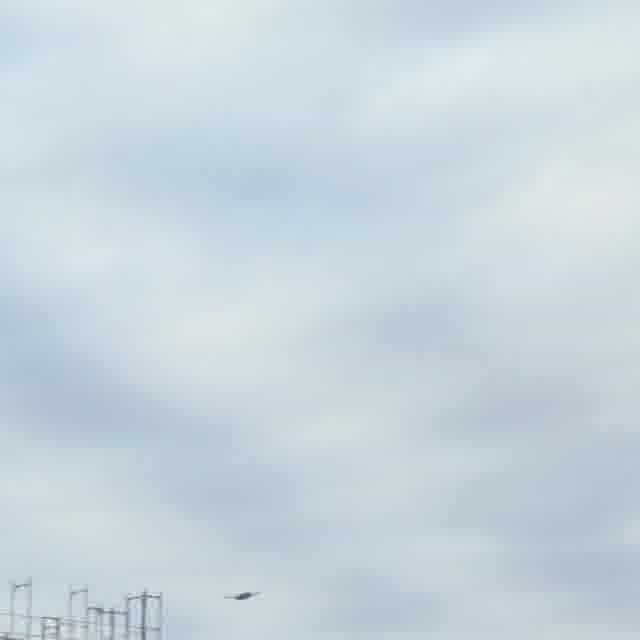Drohne: (224, 592, 260, 600)
